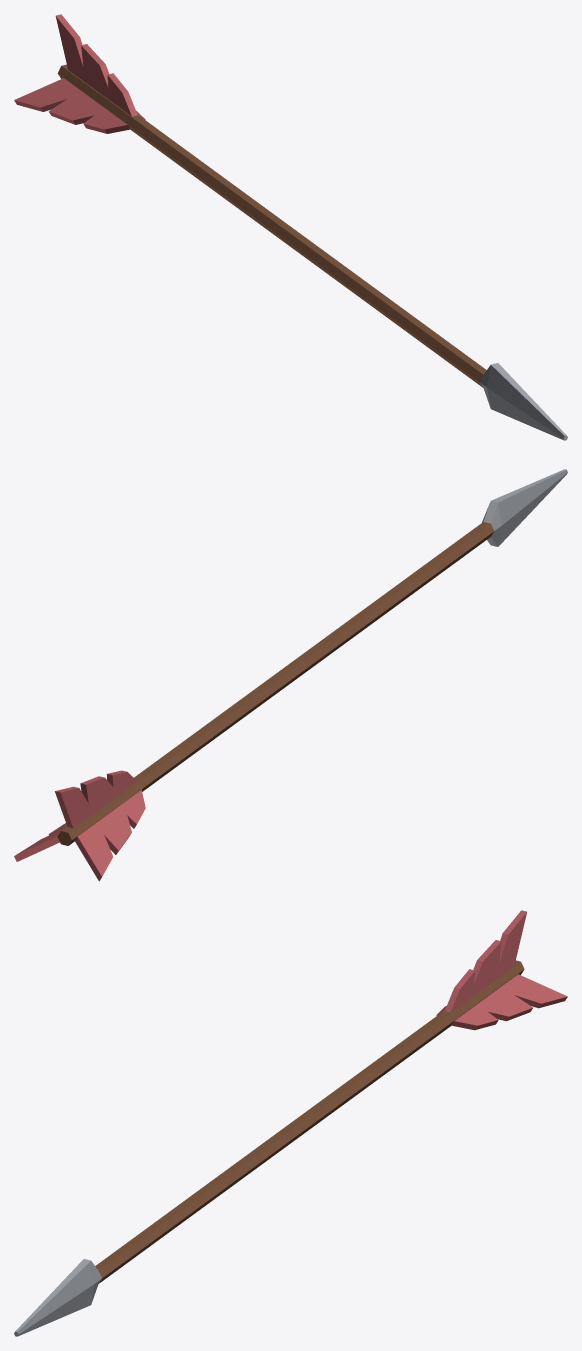
Rendered from arrow.glb.
3 renders of one model, top to bottom at view 1: azimuth 30°, elevation 25°; view 2: azimuth 150°, elevation 25°; view 3: azimuth 330°, elevation 25°, orthographic.
Visible parts, largest first — view 1: Arrow_Cylinder.001; view 2: Arrow_Cylinder.001; view 3: Arrow_Cylinder.001.
Part boxes in pixels (bbox=[...]): Arrow_Cylinder.001: bbox=[14, 14, 567, 440]; Arrow_Cylinder.001: bbox=[14, 469, 567, 881]; Arrow_Cylinder.001: bbox=[14, 910, 567, 1336].
Bounding box in the file's own units: 0.274 × 0.2383 × 2.73.
